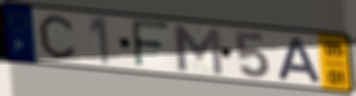1: (86, 14, 111, 67)
5: (233, 30, 272, 80)
A: (274, 36, 325, 85)
C: (36, 13, 77, 61)
F: (129, 18, 172, 70)
M: (170, 22, 226, 78)
